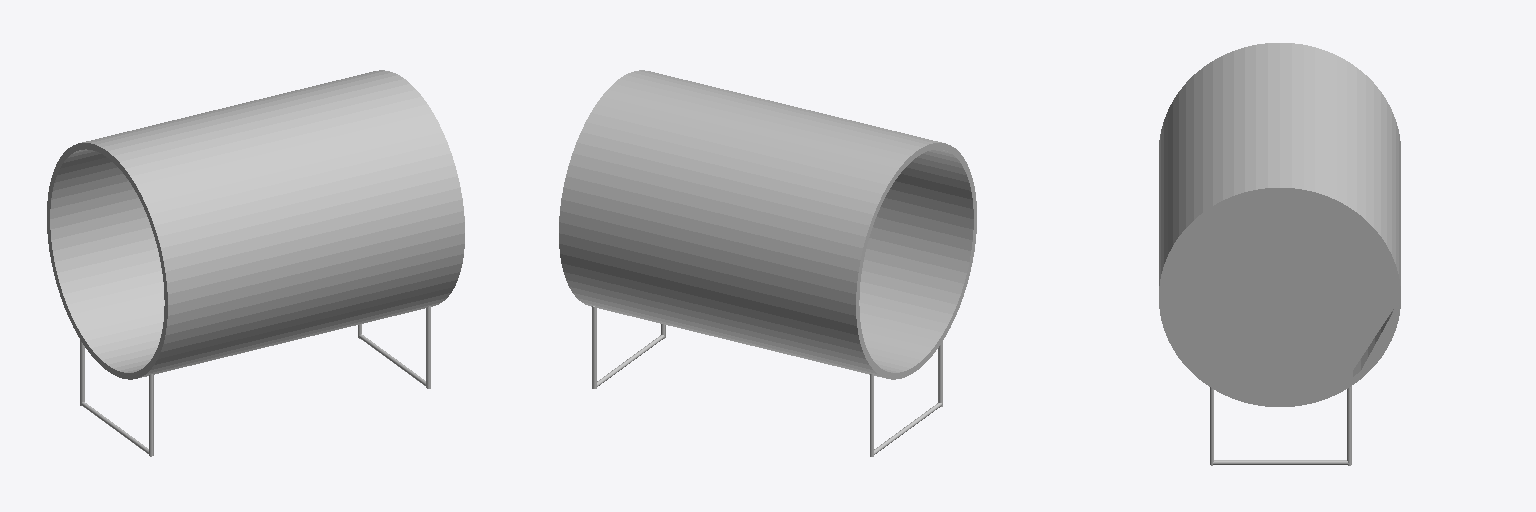
The model's file is Cano15cm.obj.
The picture shows the model from 3 angles: view 1: azimuth 30°, elevation 25°; view 2: azimuth 150°, elevation 25°; view 3: azimuth 270°, elevation 25°; orthographic projection.
Visible parts, largest first — view 1: Cylinder.001_Cylinder.002, Cylinder.002_Cylinder.006, Cylinder.003_Cylinder.005; view 2: Cylinder.001_Cylinder.002, Cylinder.002_Cylinder.006, Cylinder.003_Cylinder.005; view 3: Cylinder.001_Cylinder.002, Cylinder.003_Cylinder.005.
Part boxes in pixels (left/top/right/bottom): Cylinder.001_Cylinder.002: left=47, top=70, right=464, bottom=379; Cylinder.002_Cylinder.006: left=80, top=340, right=153, bottom=456; Cylinder.003_Cylinder.005: left=358, top=306, right=430, bottom=388; Cylinder.001_Cylinder.002: left=559, top=70, right=976, bottom=379; Cylinder.002_Cylinder.006: left=870, top=342, right=942, bottom=456; Cylinder.003_Cylinder.005: left=592, top=306, right=665, bottom=388; Cylinder.001_Cylinder.002: left=1159, top=43, right=1400, bottom=406; Cylinder.003_Cylinder.005: left=1210, top=386, right=1351, bottom=465.
Bounding box in the file's own units: 0.15 × 0.1359 × 0.106.